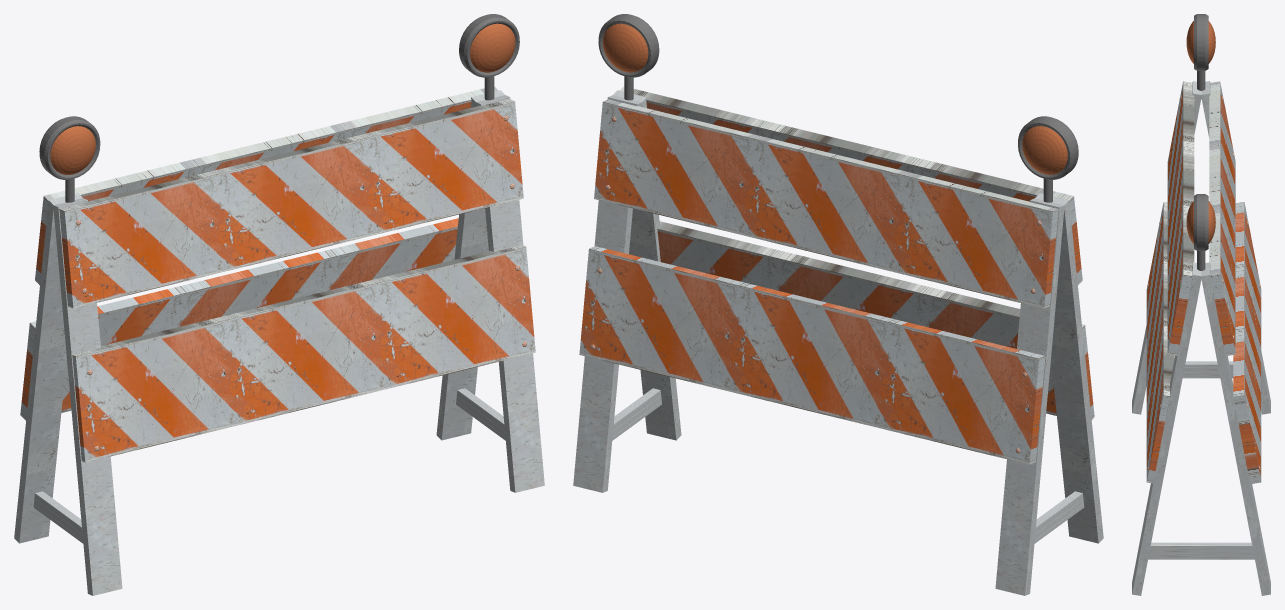
Rendered from barrier2.glb.
3 views of the same model, side by side, from view 1: azimuth 30°, elevation 25°; view 2: azimuth 150°, elevation 25°; view 3: azimuth 270°, elevation 25° (orthographic). The views are drawn at different scales.
Parts seen in each view (by area): view 1: Cube.001_0; view 2: Cube.001_0; view 3: Cube.001_0.
Part boxes in pixels (box(x1,y1,x2,y2)): Cube.001_0: box(14, 14, 544, 595); Cube.001_0: box(573, 14, 1103, 595); Cube.001_0: box(1132, 14, 1270, 595).
Bounding box in the file's own units: 1.51 × 1.35 × 0.4329.
Materials: 4 (2 with a texture image).
